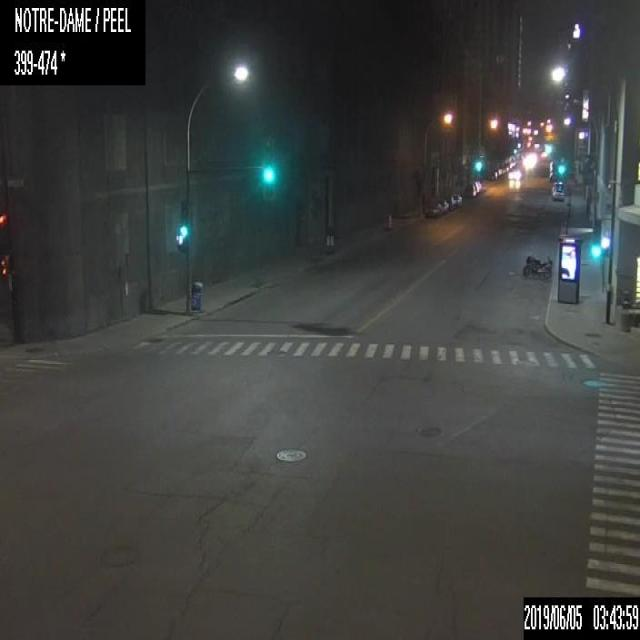construction: (324, 226, 334, 253), (386, 213, 391, 230)
vehicle: (522, 255, 552, 276), (463, 184, 476, 198), (436, 199, 448, 213), (508, 168, 521, 180), (444, 195, 455, 209), (552, 188, 564, 199), (430, 202, 440, 215), (487, 169, 497, 180), (453, 193, 461, 206), (552, 181, 563, 190), (471, 182, 478, 193), (474, 179, 481, 189)
